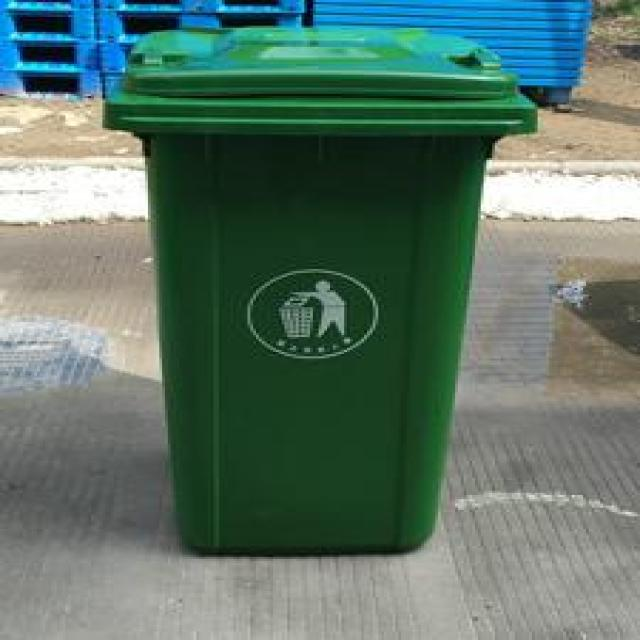garbage_bin: (102, 28, 535, 550)
